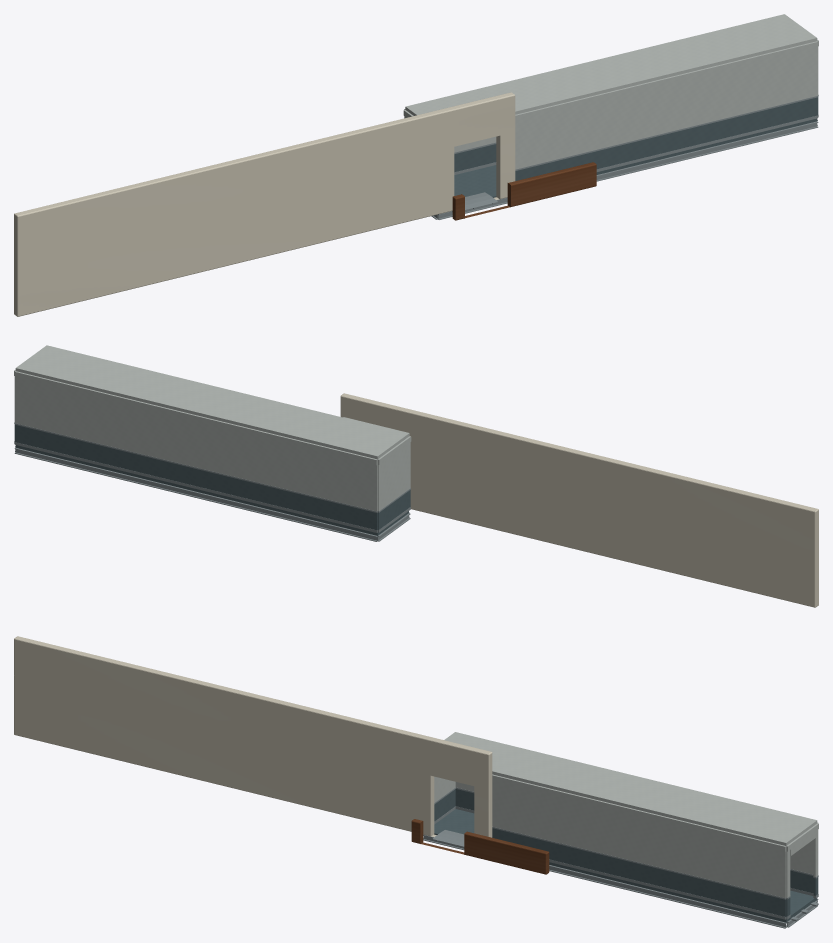
Rendered from PANORAMA_SERVICE_RECEIVER_r001.glb.
The picture shows the model from 3 angles, top to bottom: view 1: azimuth 30°, elevation 25°; view 2: azimuth 150°, elevation 25°; view 3: azimuth 330°, elevation 25°; orthographic projection. The views are drawn at different scales.
Parts seen in each view (by area): view 1: PRS_SUCCESSOR_D12_directory_09__enclosure_1, PRS_BATCH_001, PRS_BATCH_000, PRS_BATCH_002, PRS_SUCCESSOR_D12_directory_09__dado-1_0; view 2: PRS_SUCCESSOR_D12_directory_09__enclosure_1, PRS_BATCH_001, PRS_BATCH_000, PRS_BATCH_002; view 3: PRS_SUCCESSOR_D12_directory_09__enclosure_1, PRS_BATCH_001, PRS_BATCH_000, PRS_BATCH_002, PRS_SUCCESSOR_D12_directory_09__dado-1_0.
Boxes of the visible parts, box(x1,y1,x2,y2) form: PRS_SUCCESSOR_D12_directory_09__enclosure_1: box(14, 92, 515, 316); PRS_BATCH_001: box(403, 14, 818, 169); PRS_BATCH_000: box(454, 96, 818, 197); PRS_BATCH_002: box(431, 95, 818, 219); PRS_SUCCESSOR_D12_directory_09__dado-1_0: box(452, 162, 596, 220); PRS_SUCCESSOR_D12_directory_09__enclosure_1: box(340, 393, 818, 607); PRS_BATCH_001: box(14, 345, 411, 511); PRS_BATCH_000: box(14, 424, 410, 535); PRS_BATCH_002: box(14, 422, 410, 541); PRS_SUCCESSOR_D12_directory_09__enclosure_1: box(14, 636, 492, 837); PRS_BATCH_001: box(434, 732, 818, 897); PRS_BATCH_000: box(434, 789, 818, 923); PRS_BATCH_002: box(423, 787, 818, 928); PRS_SUCCESSOR_D12_directory_09__dado-1_0: box(411, 819, 549, 874).
Size of the model in its own units: 42.3 by 5.51 by 4.44.
6 materials, 5 textured.
